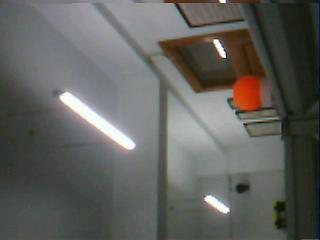oball: (233, 75, 261, 111)
